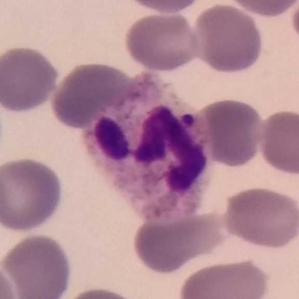Neutrophil: (72, 69, 215, 230)
RBC: (129, 207, 224, 276), (49, 59, 138, 129), (190, 2, 266, 76), (220, 184, 299, 251), (0, 154, 66, 234), (194, 95, 266, 168), (122, 9, 202, 73), (0, 231, 74, 299), (175, 255, 273, 299), (1, 44, 61, 114), (255, 107, 299, 177), (53, 284, 148, 299), (223, 0, 299, 18), (121, 0, 206, 15), (0, 257, 19, 299), (289, 0, 299, 51)
